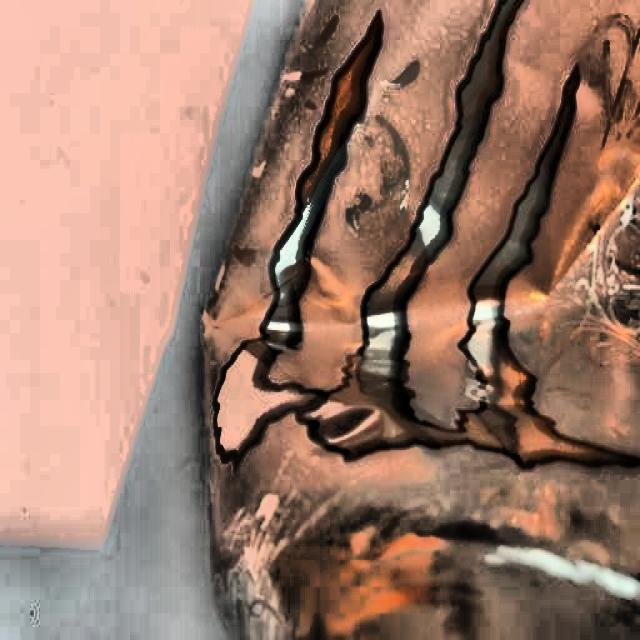metal: (221, 13, 640, 640)
